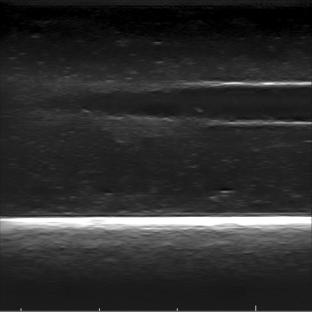vessel: (99, 79, 311, 129)
